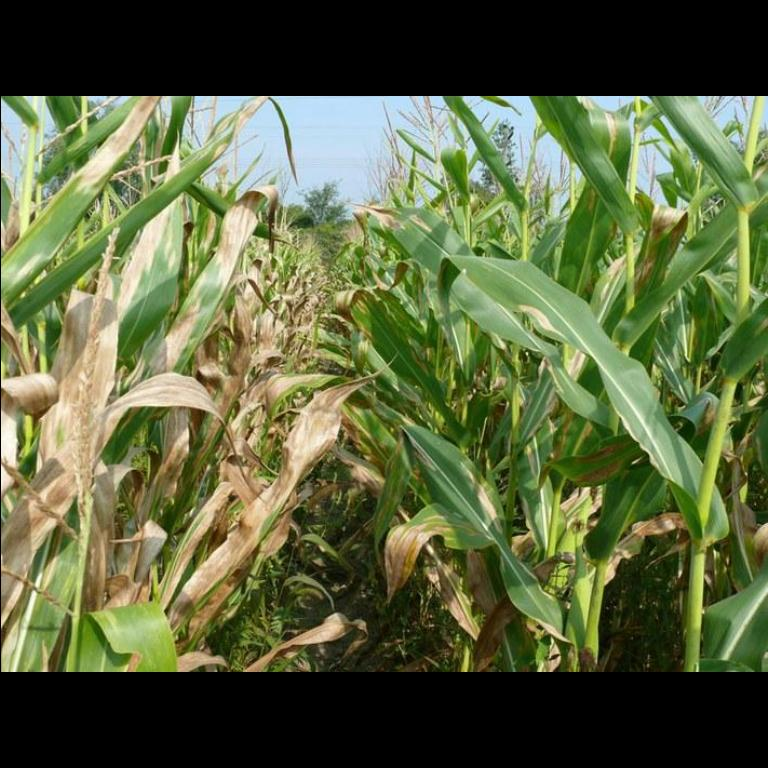blight: (58, 300, 100, 470)
